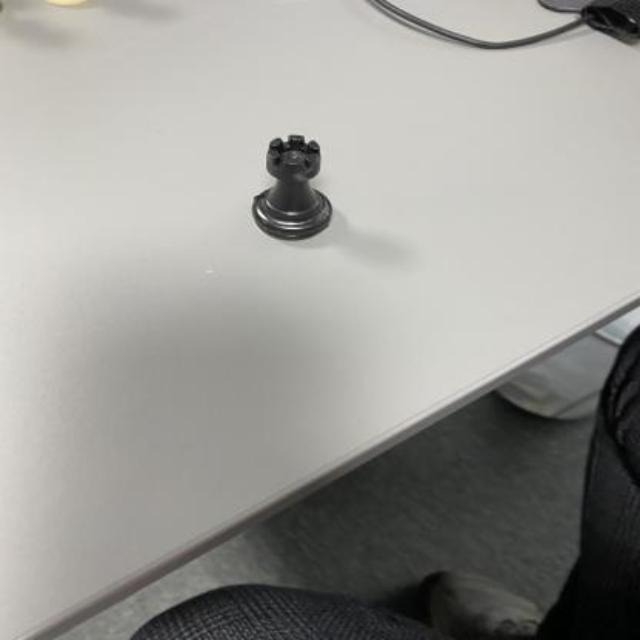black-rook: (252, 135, 332, 241)
